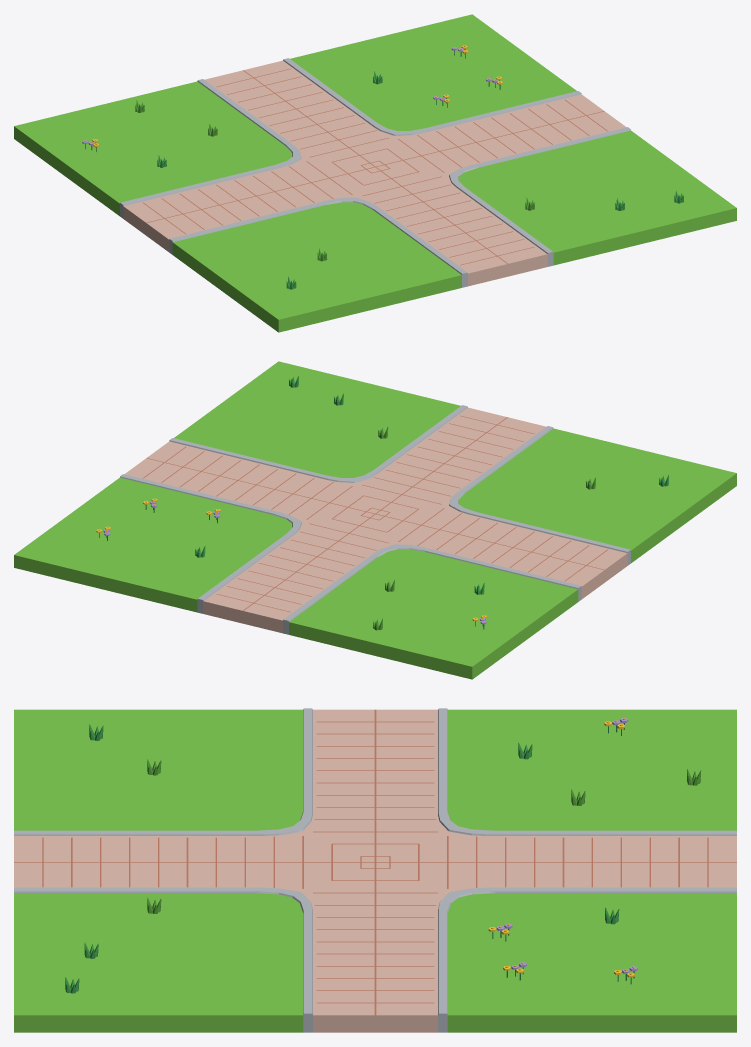
File: caminho_parque_cruz.glb
3 views of the same model, one above another, from view 1: azimuth 30°, elevation 25°; view 2: azimuth 150°, elevation 25°; view 3: azimuth 270°, elevation 25° (orthographic). The views are drawn at different scales.
Visible parts, largest first — view 1: caminho_parque_cruz; view 2: caminho_parque_cruz; view 3: caminho_parque_cruz.
Part boxes in pixels (x1,y1,x2,y2): caminho_parque_cruz: [14, 14, 736, 332]; caminho_parque_cruz: [14, 361, 736, 679]; caminho_parque_cruz: [14, 708, 736, 1032].
Bounding box in the file's own units: 15 × 0.6825 × 15.
1 material, 1 textured.
